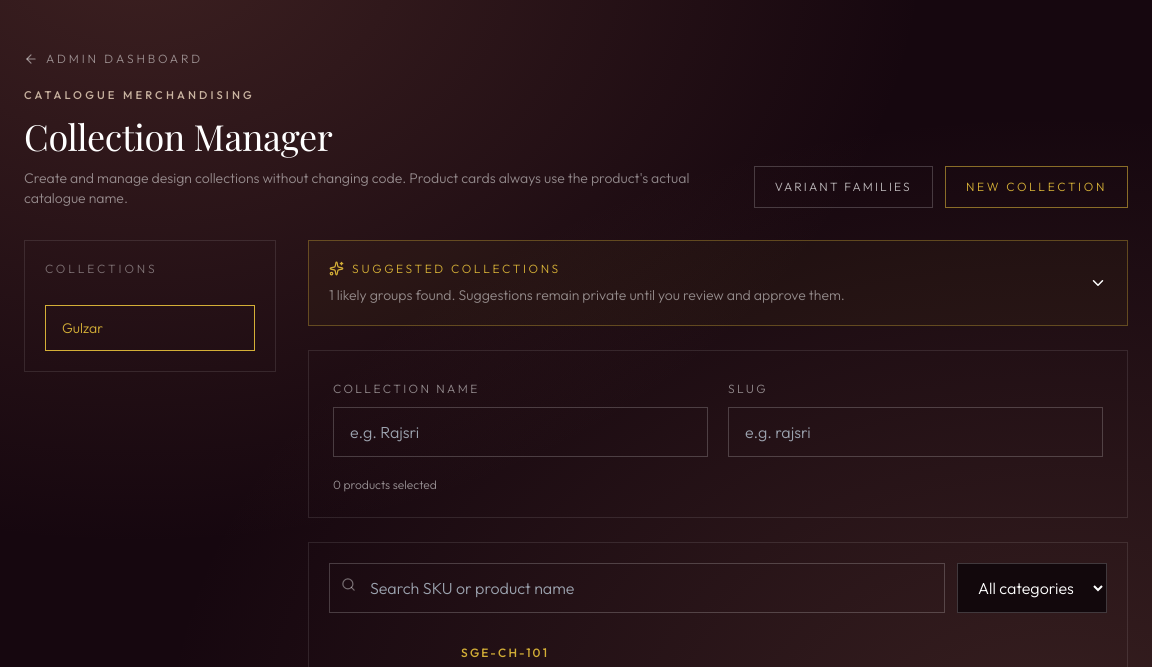
Test: keeps suggested collections private while showing images and SKUs for review
Click the button "Suggested collections": (718, 283) [309,241,1127,325]
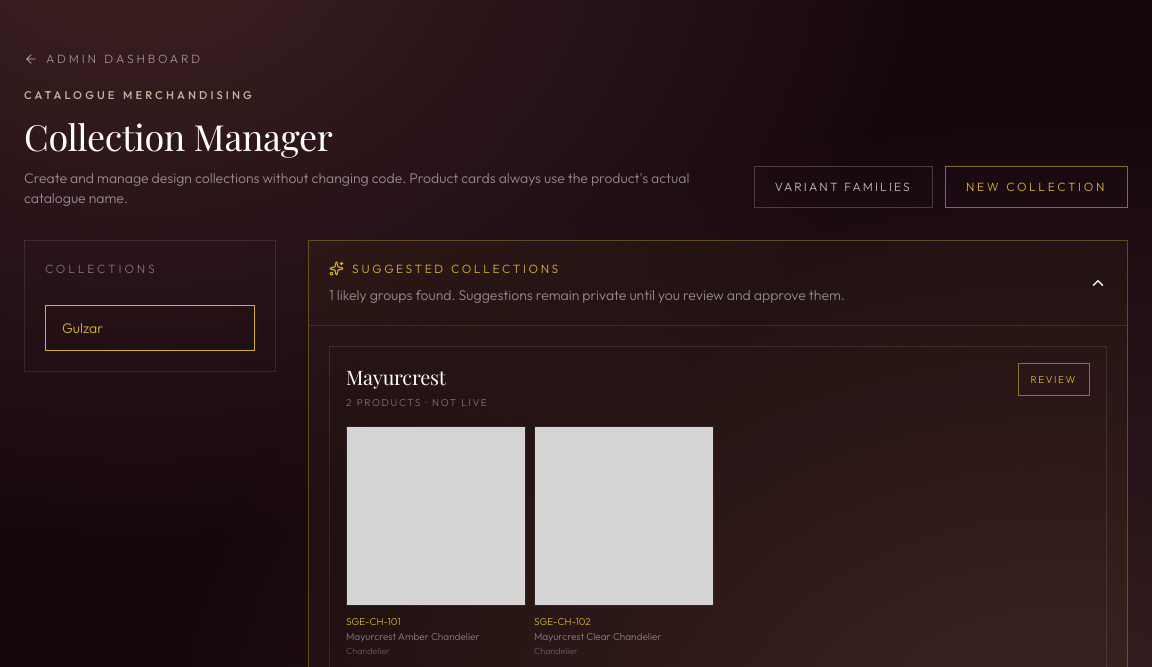
Check: the text "SGE-CH-101" is shown, box [346,615,401,628]
Check: the text "SGE-CH-102" is shown, box [534,615,591,628]
Click the button "Review": (1054, 379) [1018,363,1090,396]
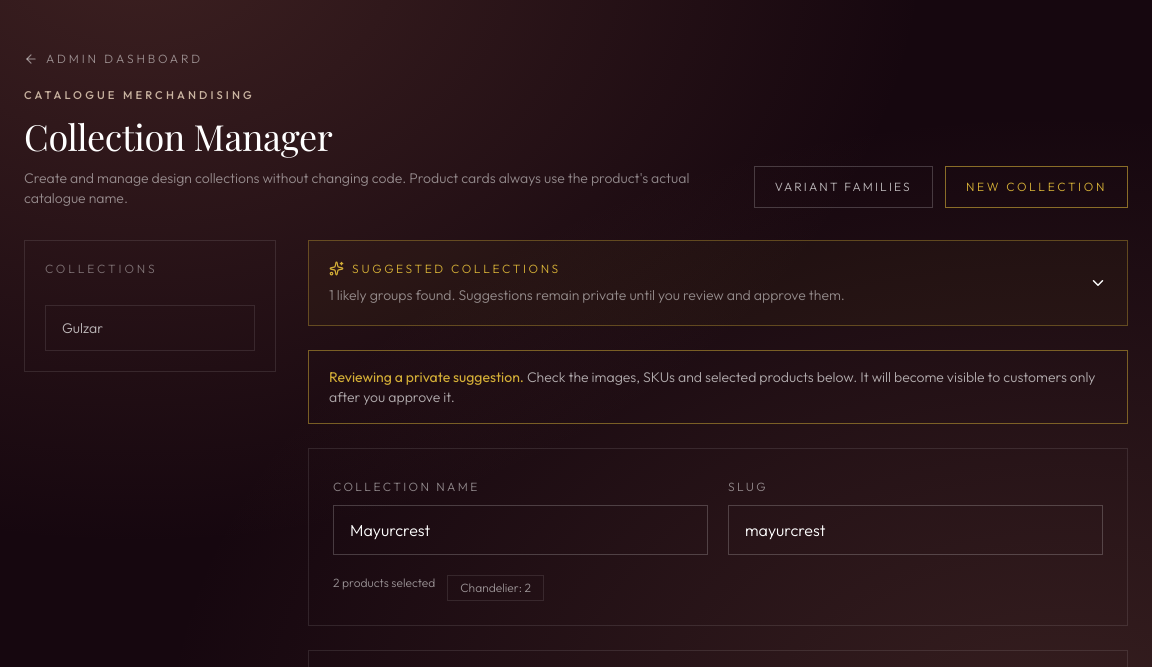
Check: the field showing "Mayurcrest" is shown, box [333,505,708,555]
Check: the text "Reviewing a private suggestion." is shown, box [329,368,524,386]
